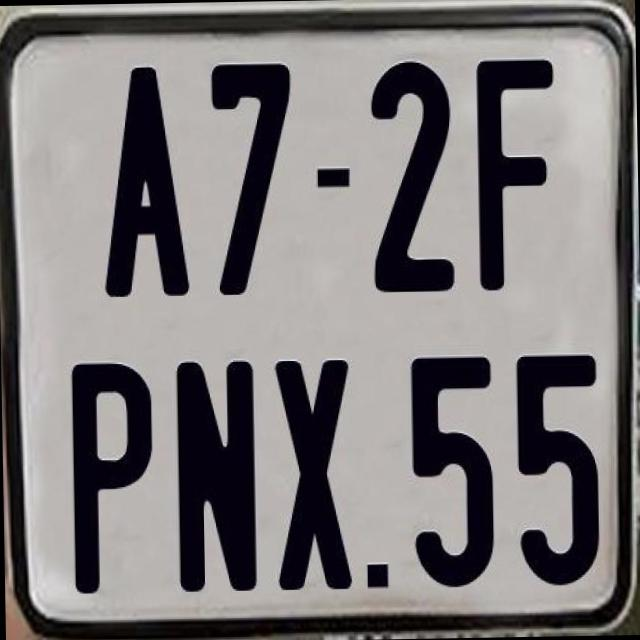2: (368, 58, 457, 296)
5: (514, 354, 600, 588), (407, 351, 491, 586)
7: (208, 58, 292, 294)
A: (101, 63, 193, 303)
F: (472, 54, 554, 292)
N: (174, 356, 255, 590)
P: (70, 357, 154, 592)
X: (270, 358, 350, 592)
